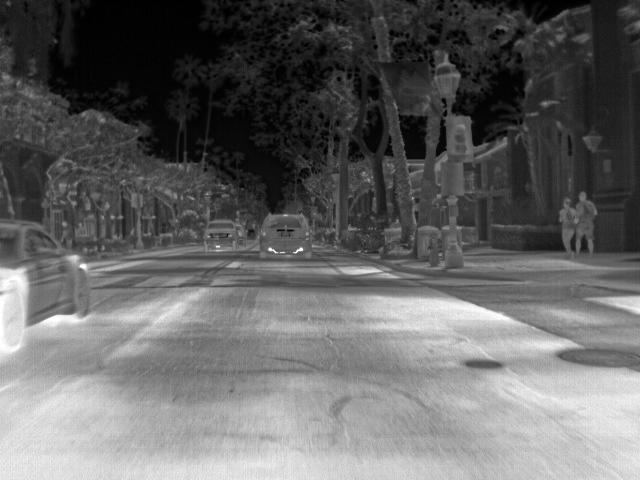car: (2, 218, 97, 354), (257, 210, 316, 261), (201, 220, 239, 252), (236, 221, 249, 242)
person: (573, 189, 600, 255), (557, 195, 578, 261)
